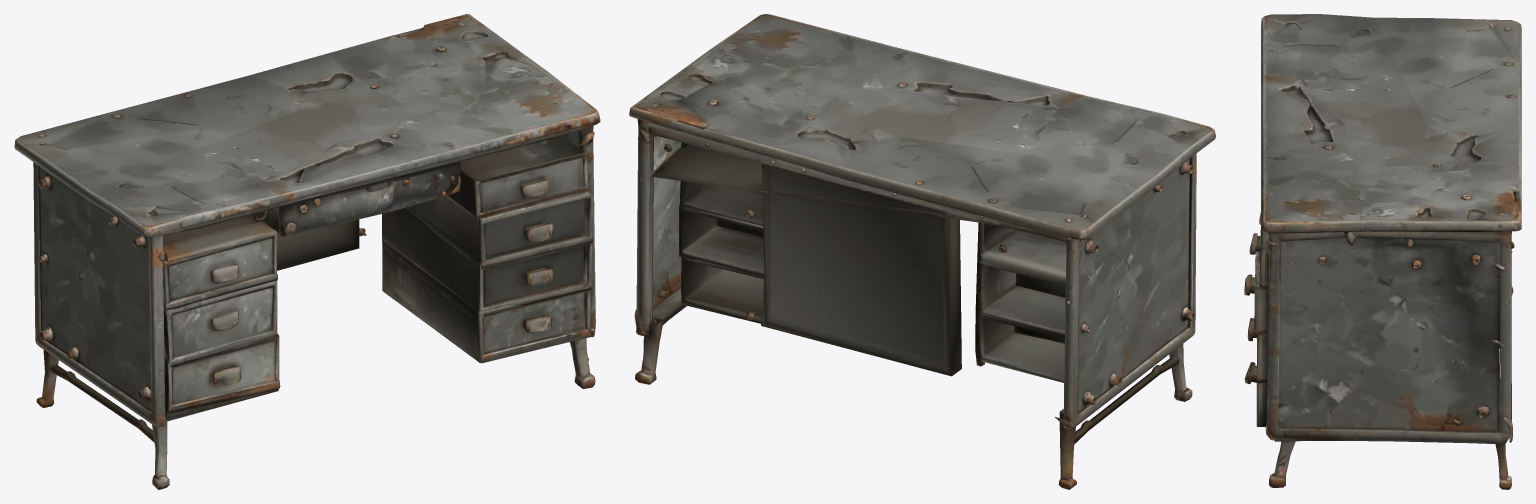
Rendered from prop_desk_metal.glb.
3 renders of one model, left to right at view 1: azimuth 30°, elevation 25°; view 2: azimuth 150°, elevation 25°; view 3: azimuth 270°, elevation 25°, orthographic. The views are drawn at different scales.
Visible parts, largest first — view 1: tripo_node_a8f8c156-5a41-474f-812e-8209073fc10f; view 2: tripo_node_a8f8c156-5a41-474f-812e-8209073fc10f; view 3: tripo_node_a8f8c156-5a41-474f-812e-8209073fc10f.
Part boxes in pixels (bbox=[...]): tripo_node_a8f8c156-5a41-474f-812e-8209073fc10f: bbox=[14, 14, 600, 489]; tripo_node_a8f8c156-5a41-474f-812e-8209073fc10f: bbox=[629, 14, 1215, 489]; tripo_node_a8f8c156-5a41-474f-812e-8209073fc10f: bbox=[1244, 14, 1521, 489].
Bounding box in the file's own units: 1.5 × 0.8713 × 0.8069.
1 material, 1 textured.
